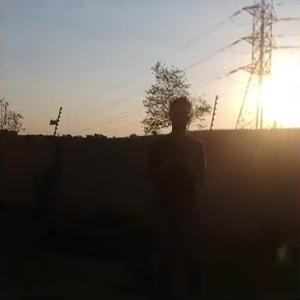follow: (142, 92, 207, 294)
